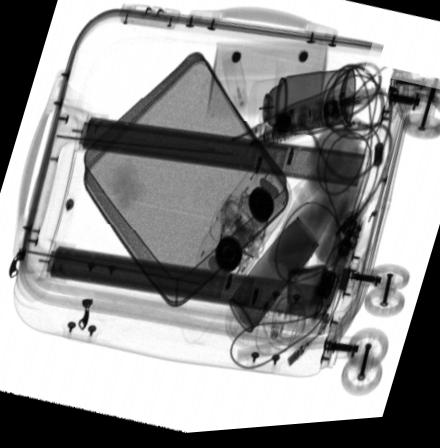Sprayer: (247, 74, 355, 135)
